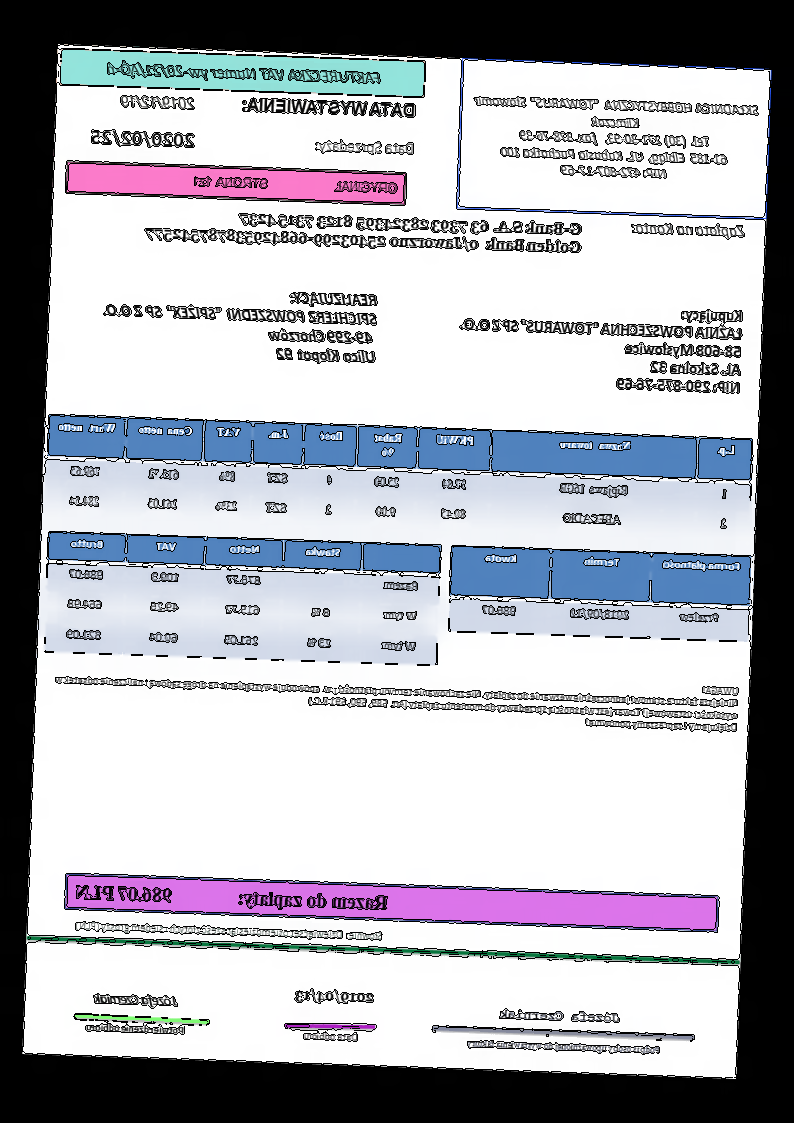Table: (45, 411, 754, 545), (42, 530, 442, 668), (449, 544, 753, 645)
TextBox: (51, 659, 741, 736), (456, 296, 745, 396), (467, 90, 764, 186), (142, 203, 585, 260), (99, 281, 380, 368), (74, 879, 391, 915), (102, 55, 386, 90), (71, 916, 385, 945), (188, 170, 401, 197), (239, 93, 419, 121), (465, 1035, 663, 1057), (88, 124, 198, 151), (313, 134, 416, 159), (631, 217, 747, 239), (498, 1006, 623, 1025), (116, 89, 199, 114), (294, 985, 378, 1009), (91, 988, 182, 1010), (82, 1019, 187, 1038), (301, 1028, 362, 1043)
